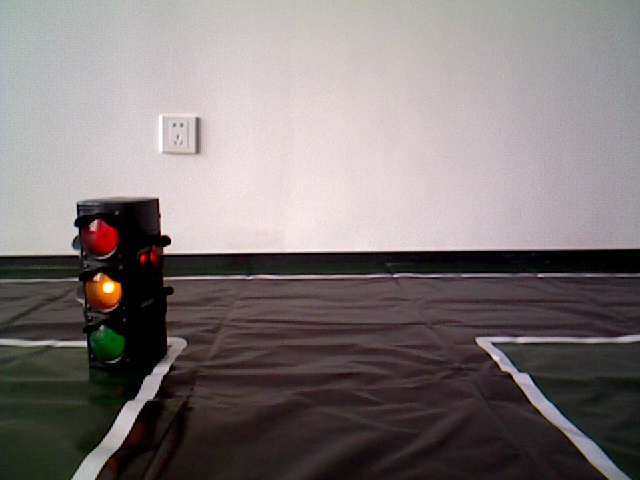yellow: (75, 205, 165, 381)
